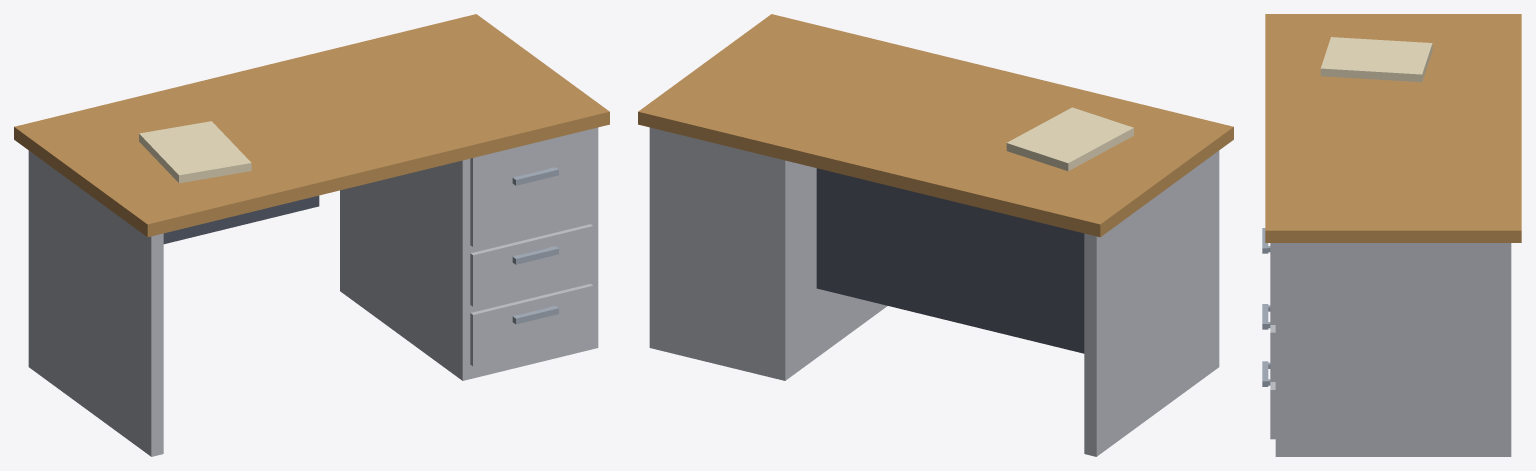
Rendered from office-desk.glb.
3 views of the same model, side by side, from view 1: azimuth 30°, elevation 25°; view 2: azimuth 150°, elevation 25°; view 3: azimuth 270°, elevation 25° (orthographic). The views are drawn at different scales.
Visible parts, largest first — view 1: Desk top, Desk panel leg, Desk pedestal, Desk drawers, Desk papers, Desk modesty panel, Desk handles; view 2: Desk top, Desk pedestal, Desk modesty panel, Desk panel leg, Desk papers; view 3: Desk top, Desk pedestal, Desk papers, Desk drawers, Desk handles.
Part boxes in pixels (x1=…): Desk top: x1=14, y1=14, x2=609, y2=237; Desk panel leg: x1=28, y1=150, x2=163, y2=456; Desk pedestal: x1=340, y1=127, x2=598, y2=380; Desk drawers: x1=470, y1=128, x2=593, y2=366; Desk papers: x1=139, y1=121, x2=251, y2=183; Desk modesty panel: x1=163, y1=195, x2=319, y2=244; Desk handles: x1=512, y1=167, x2=558, y2=324; Desk top: x1=638, y1=14, x2=1233, y2=237; Desk pedestal: x1=649, y1=127, x2=887, y2=380; Desk modesty panel: x1=816, y1=168, x2=1084, y2=353; Desk panel leg: x1=1084, y1=150, x2=1219, y2=456; Desk papers: x1=1006, y1=107, x2=1133, y2=171; Desk top: x1=1265, y1=14, x2=1521, y2=242; Desk pedestal: x1=1275, y1=243, x2=1511, y2=456; Desk papers: x1=1320, y1=37, x2=1432, y2=82; Desk drawers: x1=1270, y1=243, x2=1275, y2=439; Desk handles: x1=1262, y1=228, x2=1270, y2=386.
Size of the model in its own units: 1.5 by 0.765 by 0.759.
